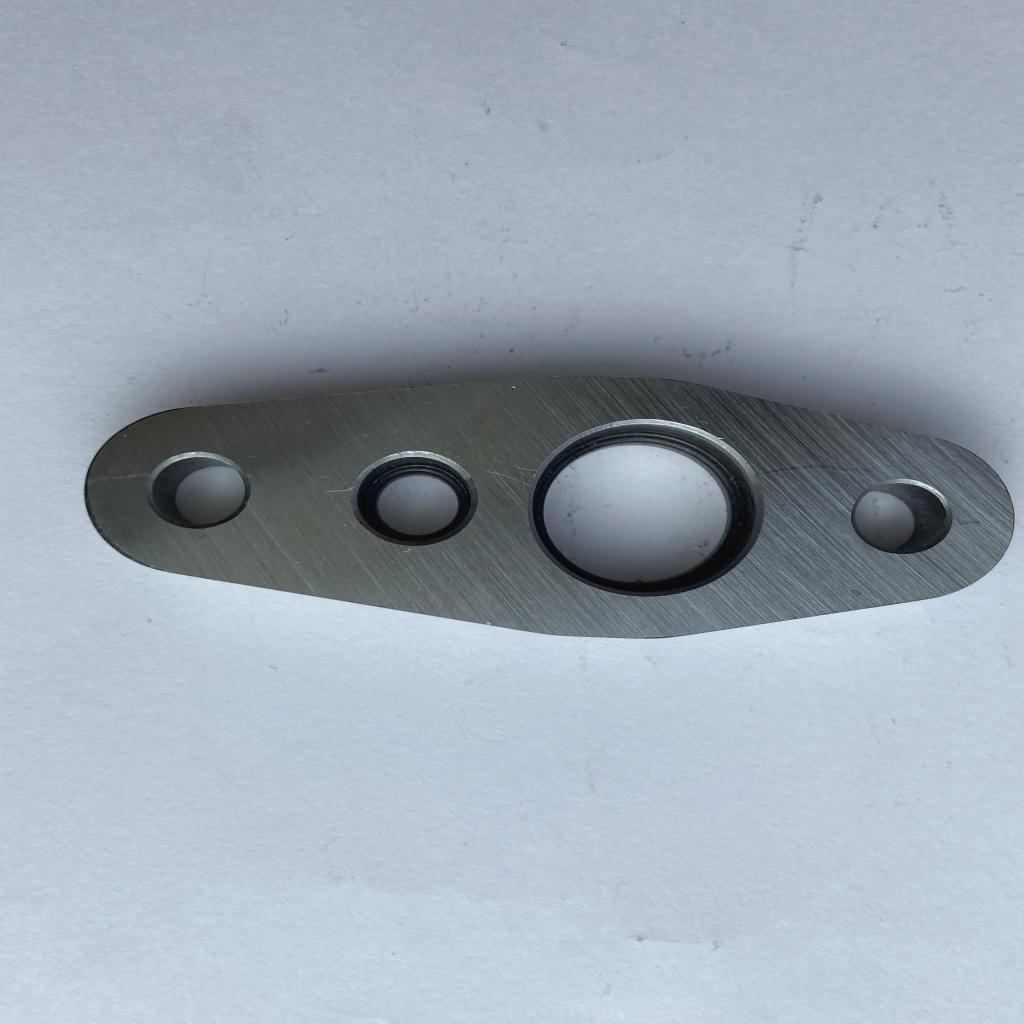chap: (508, 384, 518, 394), (401, 547, 415, 554), (713, 435, 729, 441), (295, 558, 302, 564)
lines: (761, 464, 869, 480), (483, 465, 534, 484), (323, 486, 353, 496), (958, 518, 984, 528)
